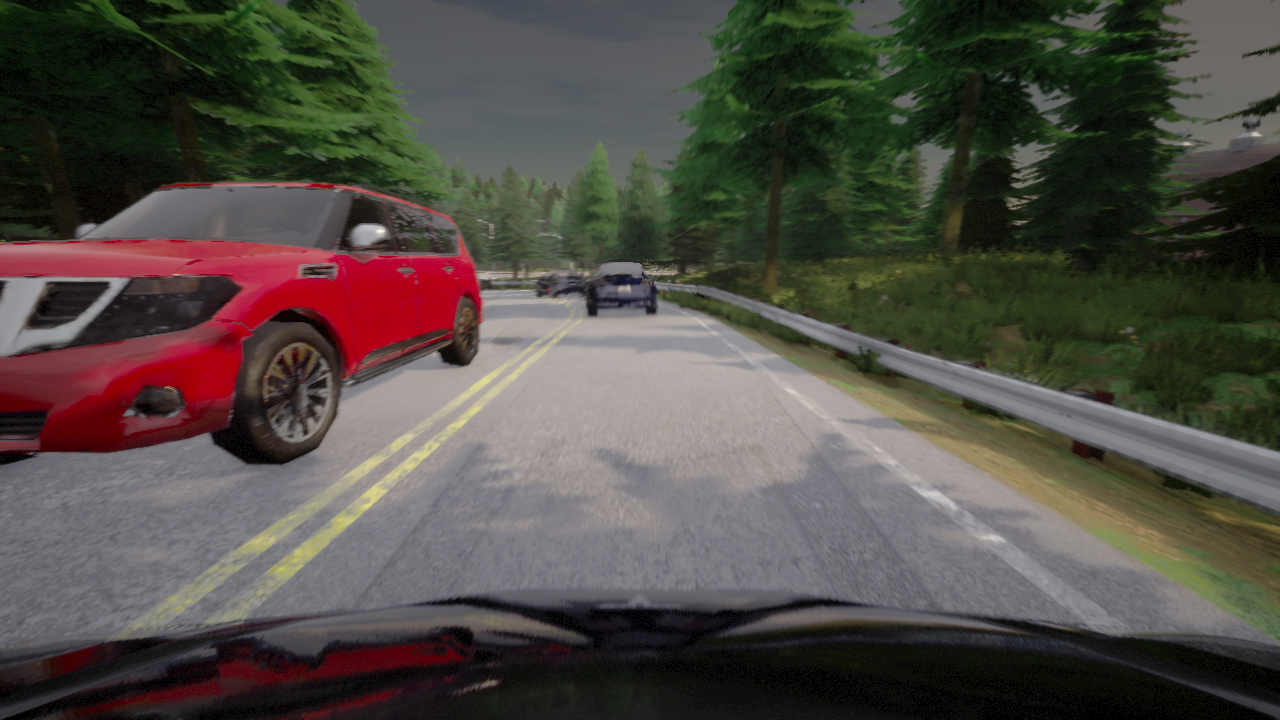cyclist: (0, 588, 1279, 719), (0, 181, 482, 464), (582, 263, 656, 315), (535, 270, 587, 297)
